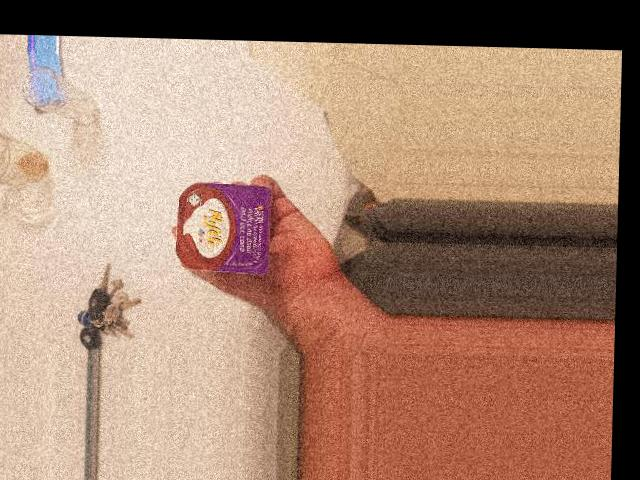milky: (118, 69, 219, 172)
